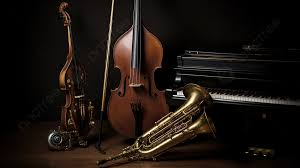Piano: (172, 37, 300, 135)
Saxophone: (93, 92, 228, 168)
Violin: (92, 6, 170, 157), (42, 5, 120, 155)
